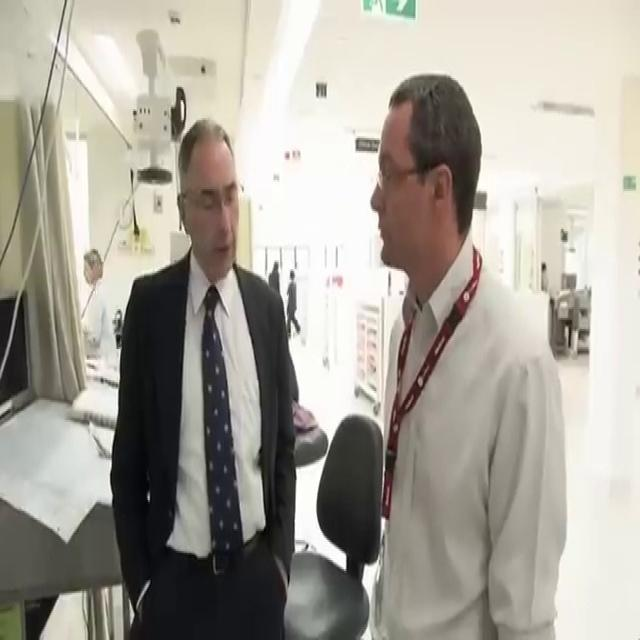doctor: (366, 71, 567, 638), (109, 116, 299, 638)
monitor: (0, 288, 33, 426)
